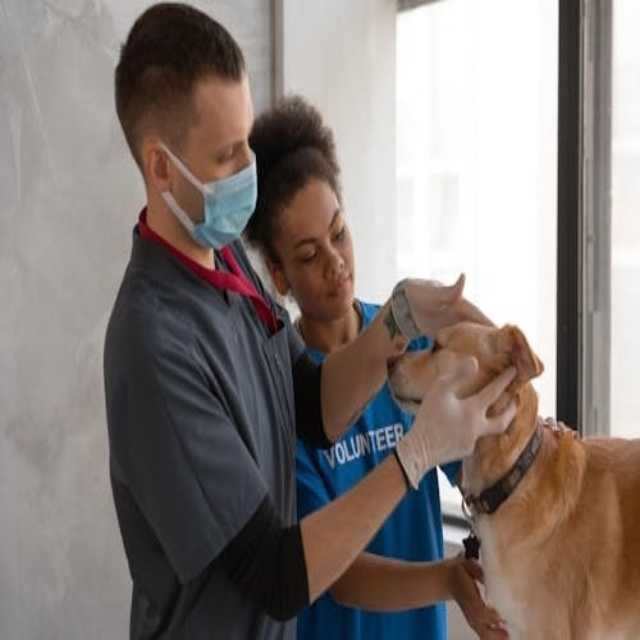Guantes: (395, 358, 518, 490), (385, 277, 462, 350)
Mascara: (158, 140, 259, 251)
Sin_gafas: (279, 200, 351, 271), (184, 111, 261, 173)
Sin_guantes: (451, 554, 510, 640)
Sin_mascara: (314, 259, 358, 311)
